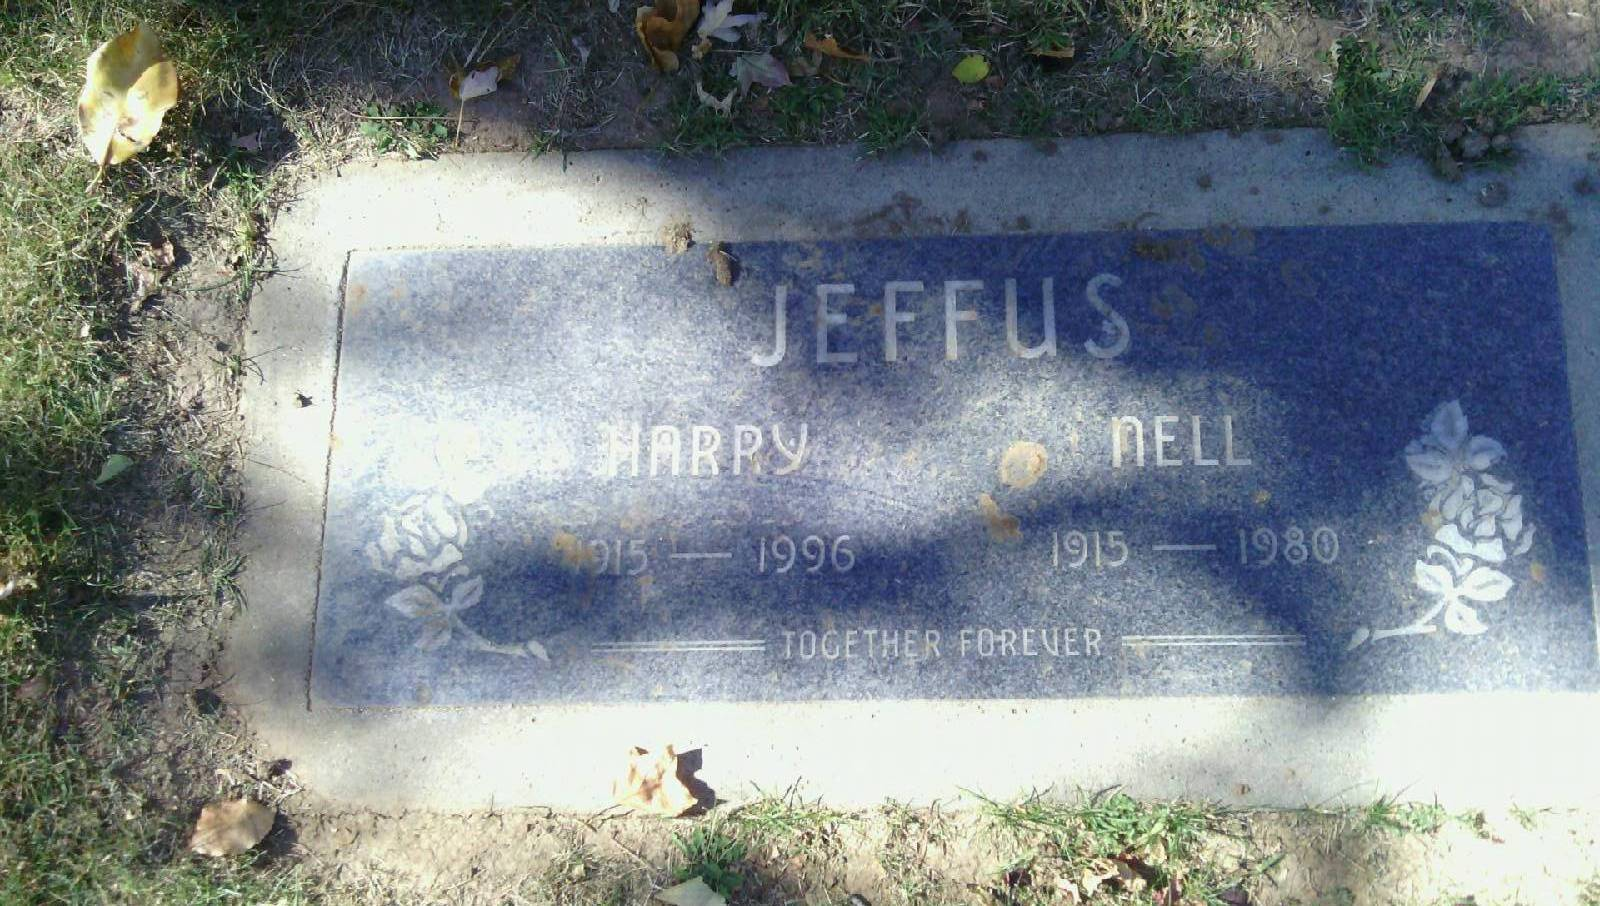flat: (171, 77, 1599, 838)
